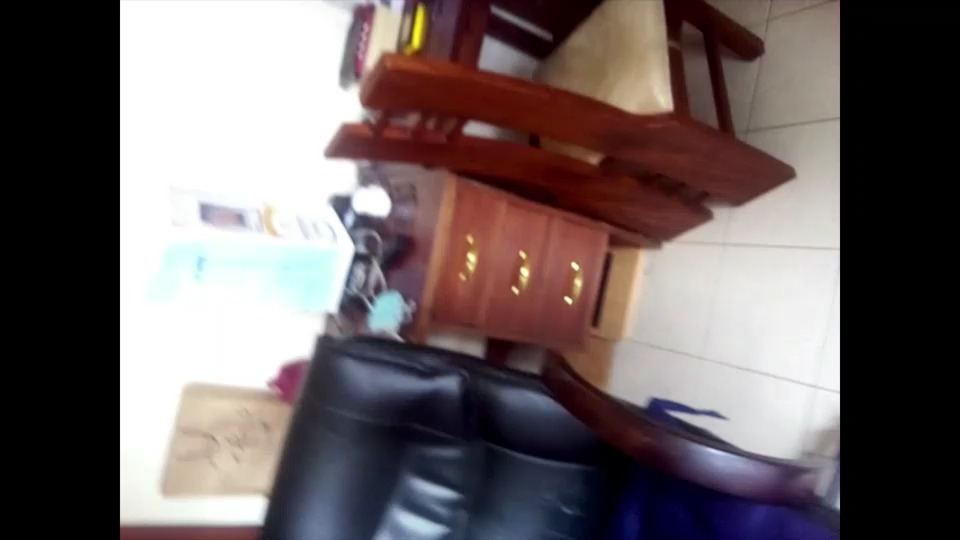wheat_flour_blue_label: (147, 195, 354, 317)
